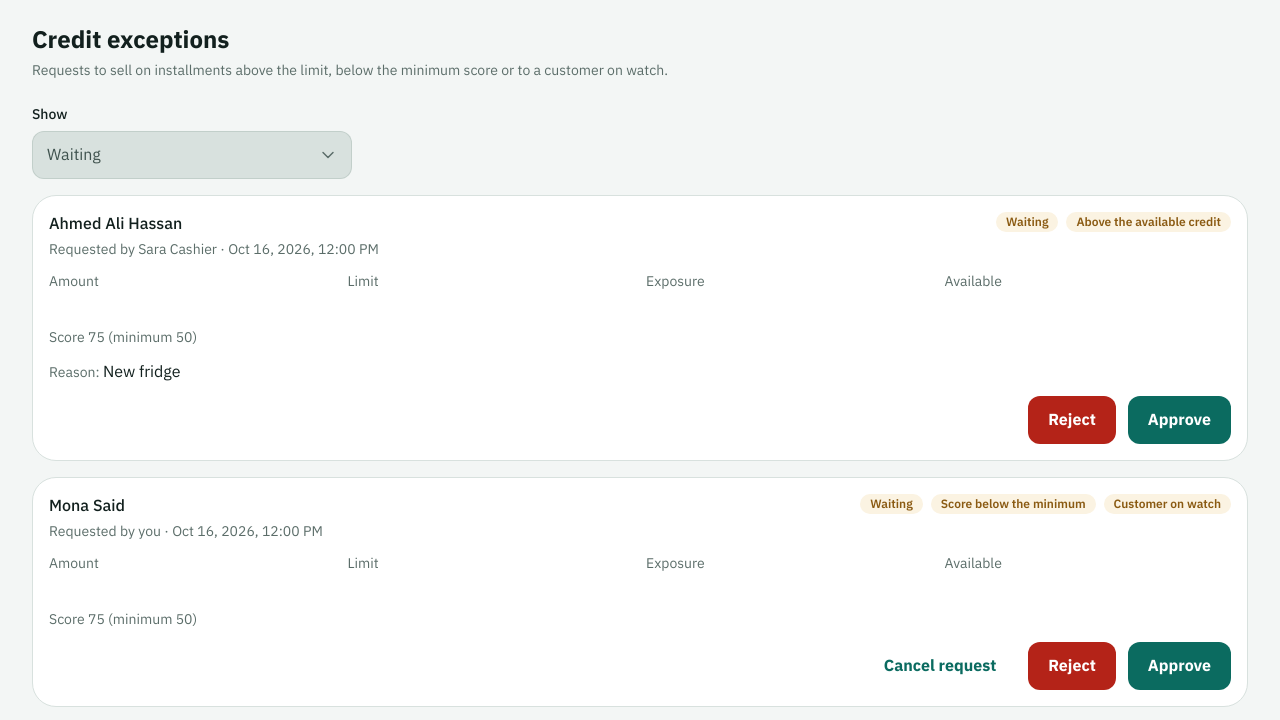
Test: R03 credit exceptions page › approving confirms and sends approve true, then says so
The width and height of the screenshot is (1280, 720).
Step 1. Click the 1st button "Approve" → (1179, 420), box [1128,396,1231,444]
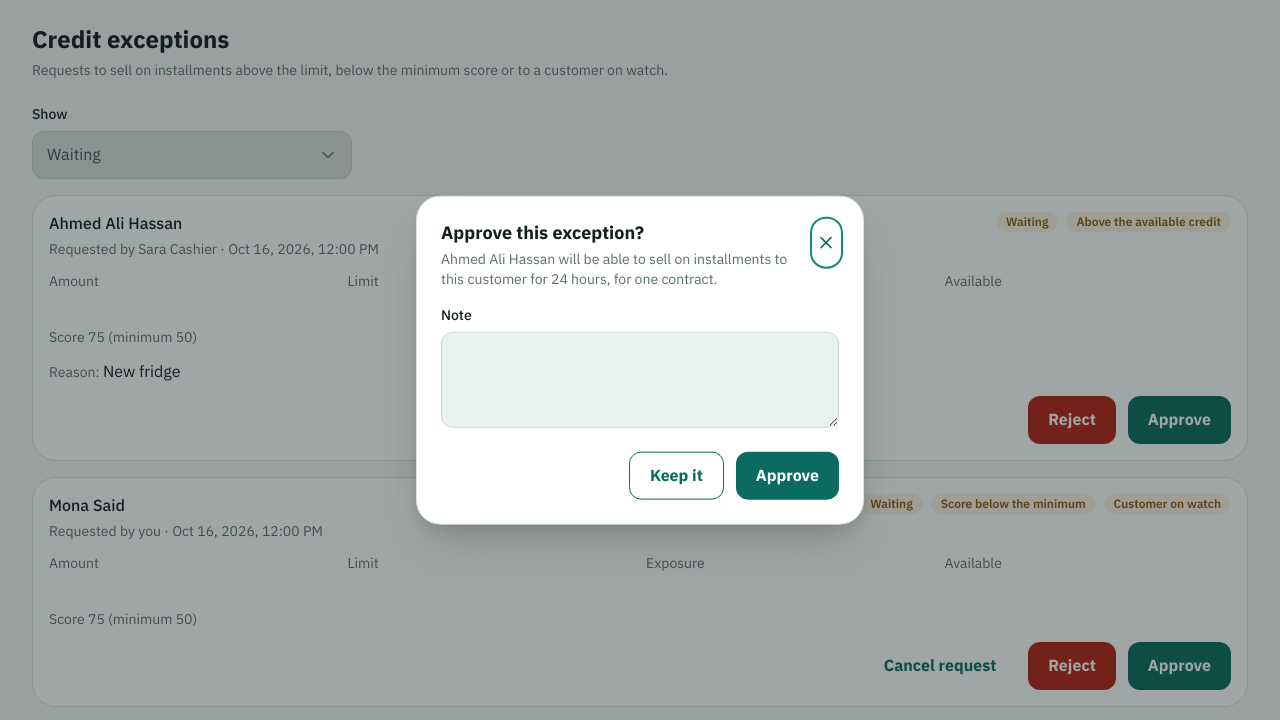
Step 2. Click the button "Approve" → (787, 475), box [736,451,839,499]
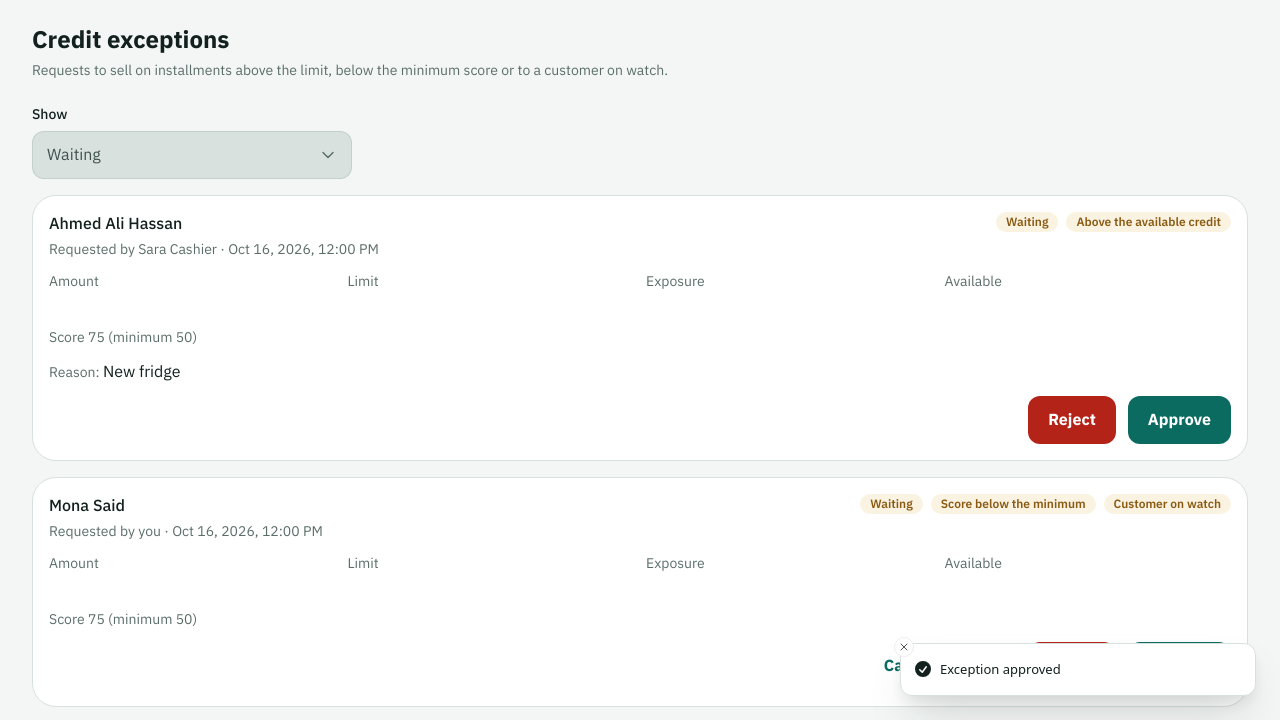
Result: the text "Exception approved" is shown at [940,660,1061,679]
